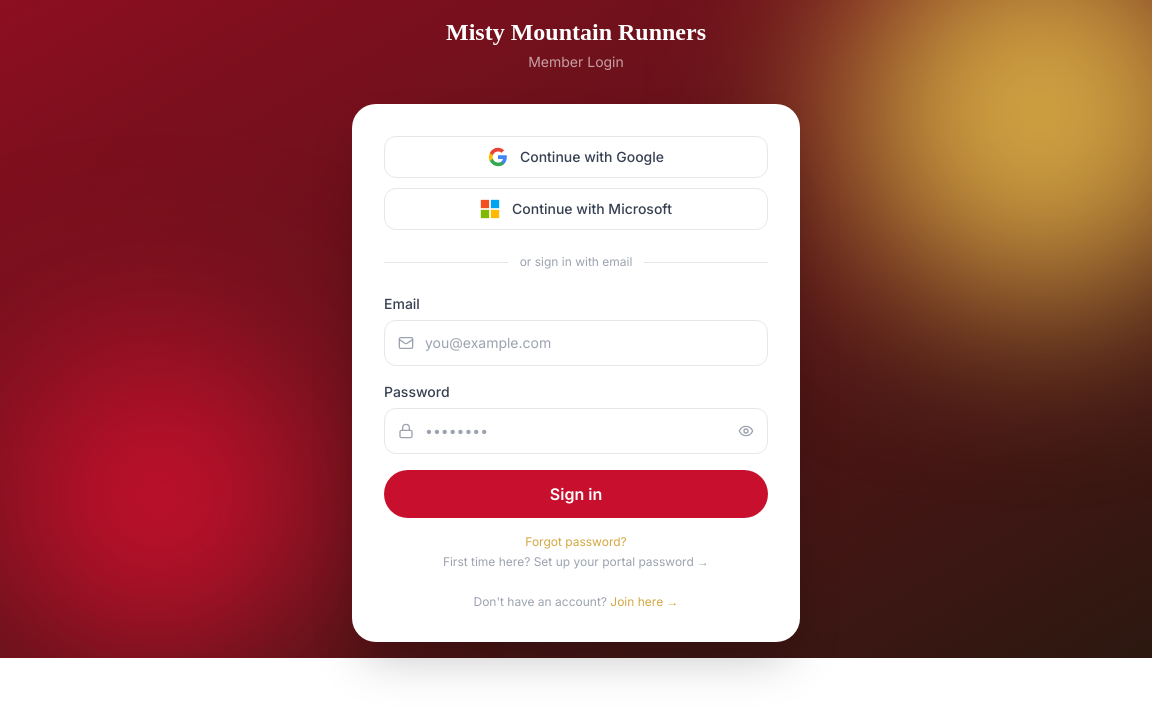
login page — OAuth stall › offers the email + password fallback when the provider hand-off never completes
The width and height of the screenshot is (1152, 720).
Click the button "Continue with Google": (576, 157) [384,136,768,178]
Wait 7000 ms
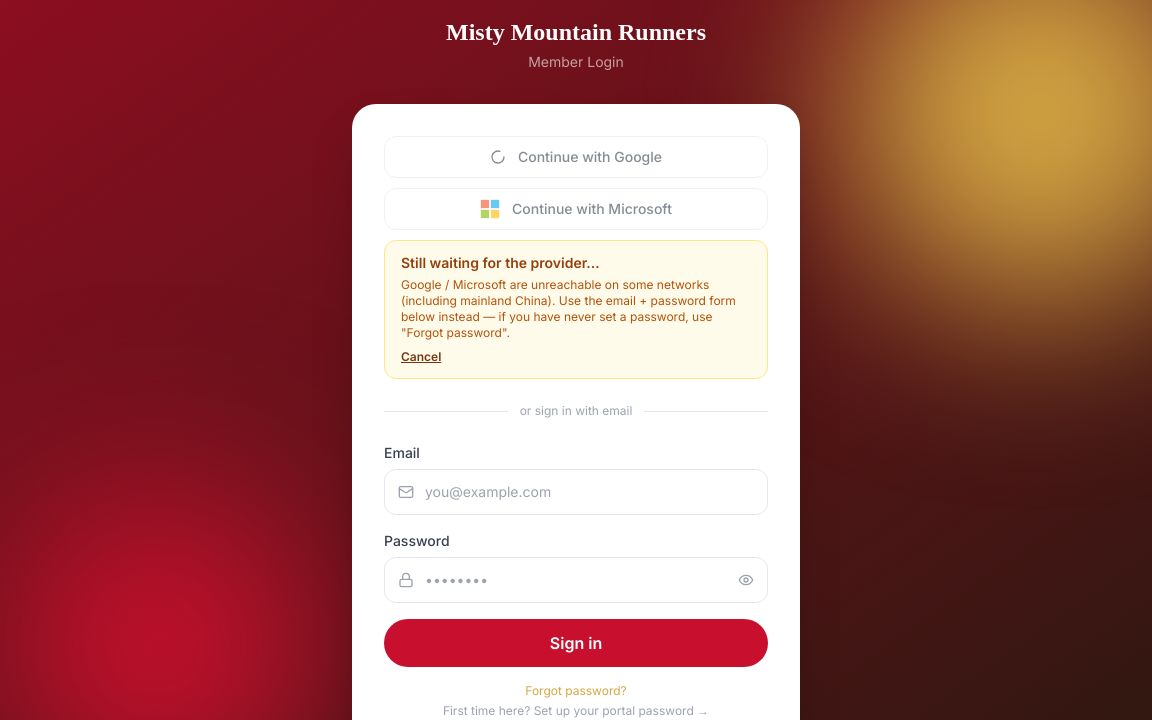
Expected: the text "Still waiting for the provider…" is shown, [401,254,600,271]
Expected: the text "unreachable on some networks" shows "email + password", [401,277,736,340]
Expected: the text "unreachable on some networks" shows "forgot password", [401,277,736,340]
